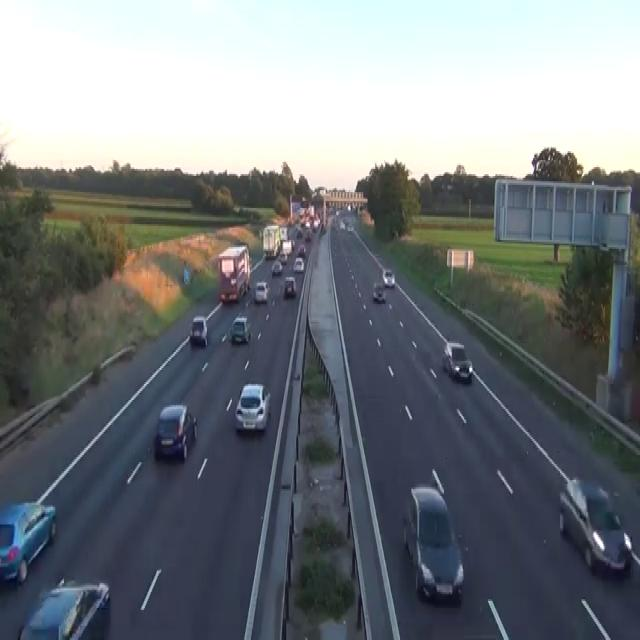Car: (558, 476, 632, 576), (402, 483, 464, 602), (17, 576, 110, 638), (0, 499, 56, 585), (154, 404, 197, 461), (234, 382, 270, 432), (442, 342, 473, 382), (229, 315, 251, 343), (189, 314, 207, 346), (254, 281, 269, 302), (283, 275, 296, 297), (372, 281, 385, 302), (183, 262, 193, 284), (382, 268, 394, 286), (270, 260, 282, 276), (293, 256, 304, 272), (282, 238, 292, 254), (265, 247, 274, 260), (297, 244, 306, 256), (279, 251, 287, 263), (312, 219, 320, 231), (295, 228, 302, 238), (304, 231, 311, 240), (339, 220, 345, 230), (321, 222, 326, 233), (347, 224, 353, 233), (291, 238, 295, 251), (305, 220, 310, 228), (347, 202, 351, 210)
Truck: (217, 244, 250, 302), (262, 224, 280, 260)
